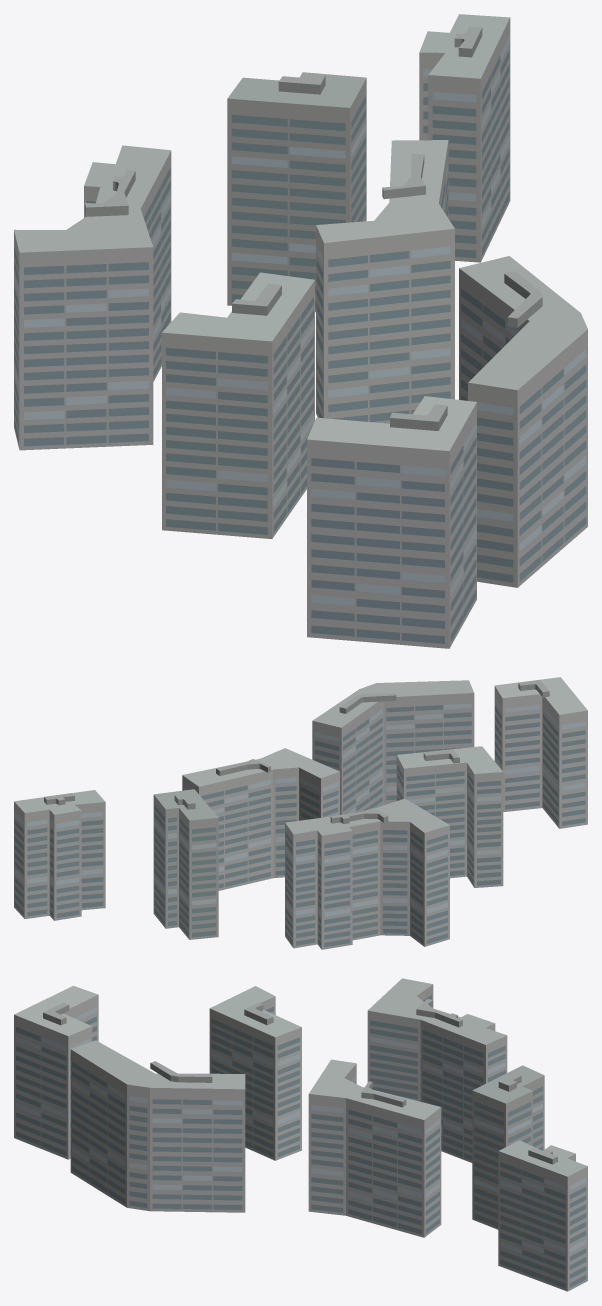
The model's file is apt-a10025729.glb.
The picture shows the model from 3 angles, top to bottom: view 1: azimuth 30°, elevation 25°; view 2: azimuth 150°, elevation 25°; view 3: azimuth 270°, elevation 25°; orthographic projection. The views are drawn at different scales.
Visible parts, largest first — view 1: apt-a10025729; view 2: apt-a10025729; view 3: apt-a10025729.
Boxes of the visible parts, bbox=[...] form: apt-a10025729: bbox=[14, 14, 587, 648]; apt-a10025729: bbox=[14, 677, 587, 949]; apt-a10025729: bbox=[14, 978, 587, 1291].
Size of the model in its own units: 135 by 45 by 173.
